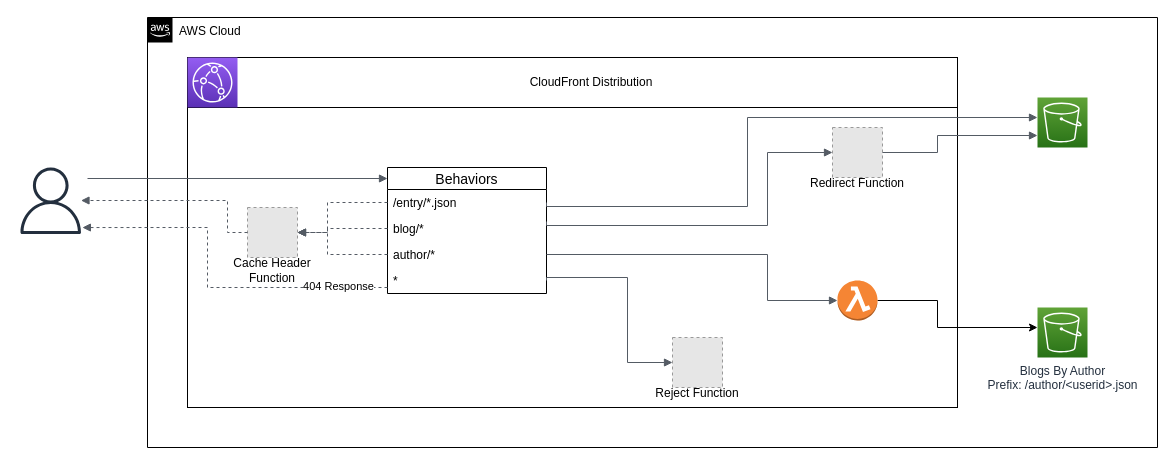
The diagram is 1175 pixels wide and 465 high, and some of its shapes have lost their labels. Grey dashed boxes stand in for pictures. The box of each missing label's shape, as (x1, y1, x2, y2) in pixels:
Author Content Lambda: (836, 280, 878, 320)
Blog Entries Prefix: /entry/<id>.json: (1036, 96, 1088, 148)
